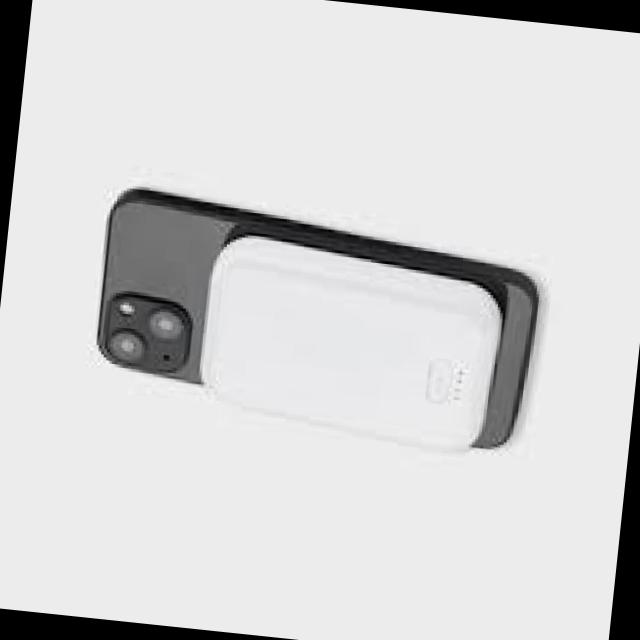power_bank: (194, 227, 509, 453)
